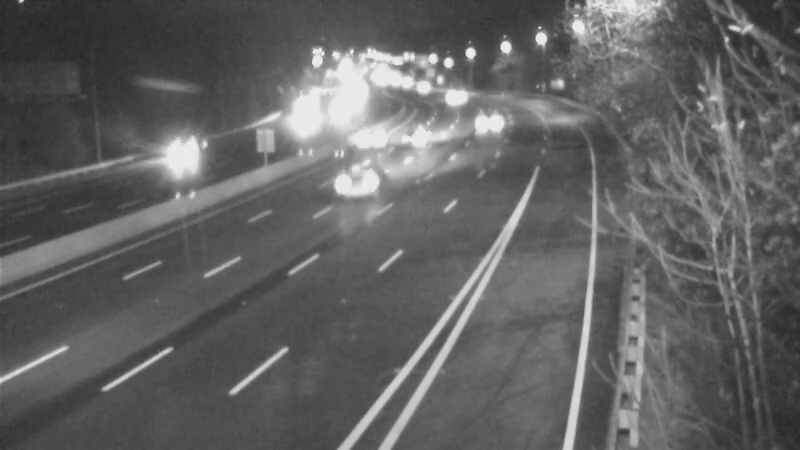vehicle: (316, 142, 396, 222), (134, 131, 214, 211), (431, 75, 481, 125), (461, 88, 511, 138), (395, 100, 445, 150), (347, 111, 397, 161)
